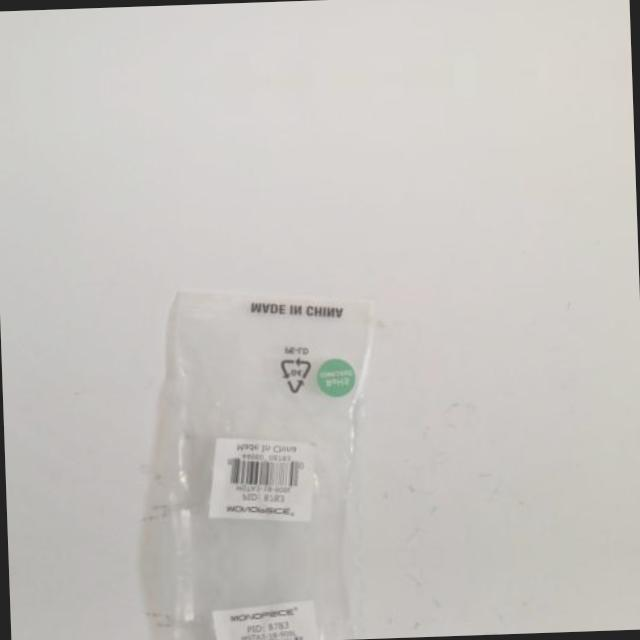Plastic: (96, 262, 446, 568), (106, 555, 449, 640)
